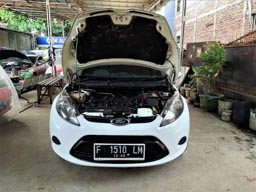plat: (94, 143, 144, 153)
